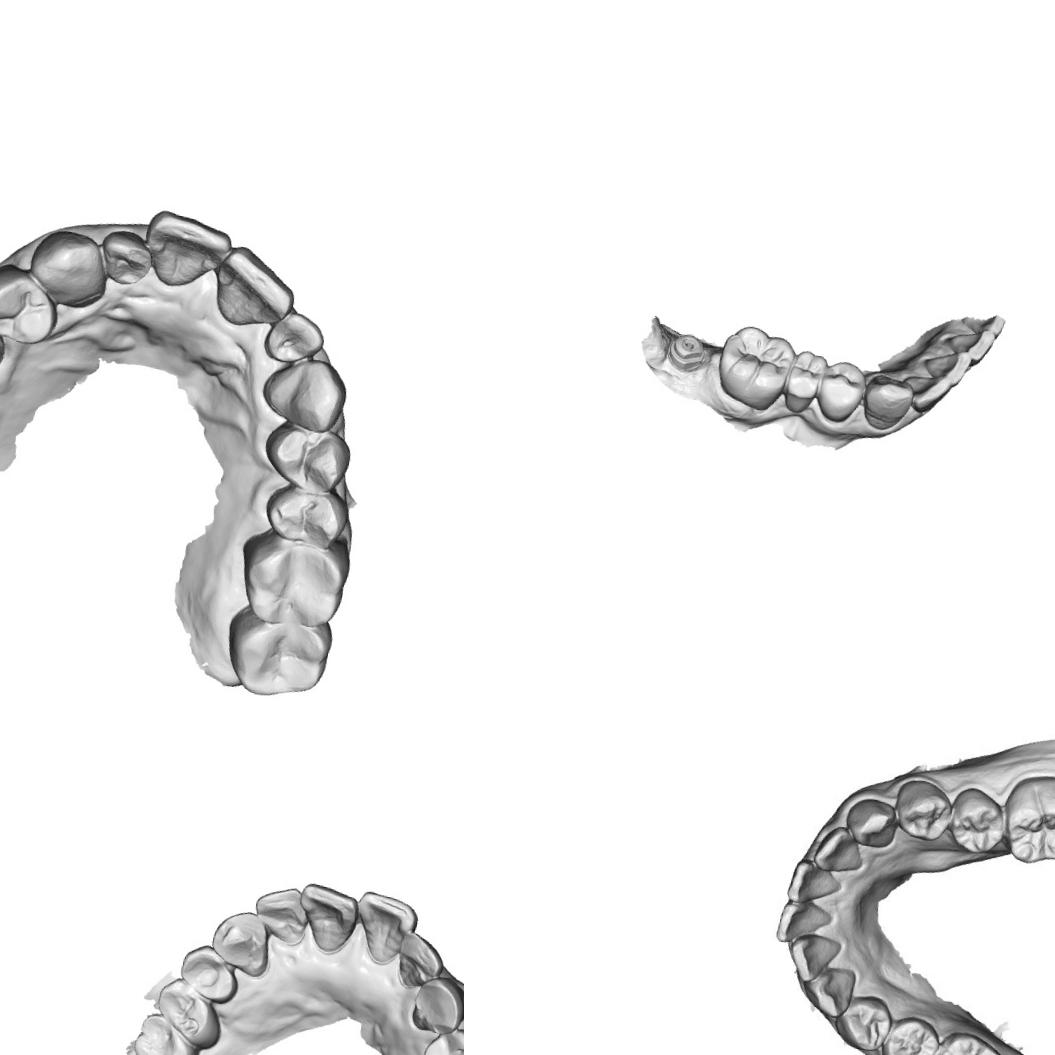canine: (25, 222, 118, 313), (255, 350, 353, 436), (205, 906, 276, 980), (858, 369, 917, 435), (407, 972, 464, 1038), (842, 793, 902, 852), (803, 964, 860, 1020)
implant_minus: (666, 327, 710, 368)
incisor: (142, 206, 236, 296), (211, 241, 300, 334), (348, 888, 421, 970), (290, 880, 362, 959), (249, 881, 313, 946), (260, 310, 324, 368), (810, 822, 872, 880), (98, 228, 157, 288), (772, 897, 836, 952), (392, 930, 448, 992), (786, 933, 843, 990), (785, 857, 844, 910), (906, 368, 955, 416), (916, 351, 972, 390), (955, 307, 1009, 342), (939, 326, 986, 363)
molar: (236, 528, 348, 630), (218, 609, 332, 705), (711, 319, 796, 414), (1000, 768, 1055, 869), (129, 1010, 205, 1055), (927, 1026, 1009, 1055)
premolar: (260, 417, 350, 496), (256, 483, 351, 556), (150, 974, 228, 1052), (888, 771, 954, 846), (831, 989, 900, 1055), (176, 941, 244, 1007), (0, 263, 55, 342), (810, 356, 870, 428), (950, 786, 1009, 854), (780, 344, 829, 416), (879, 1012, 941, 1055), (419, 1021, 464, 1055)
